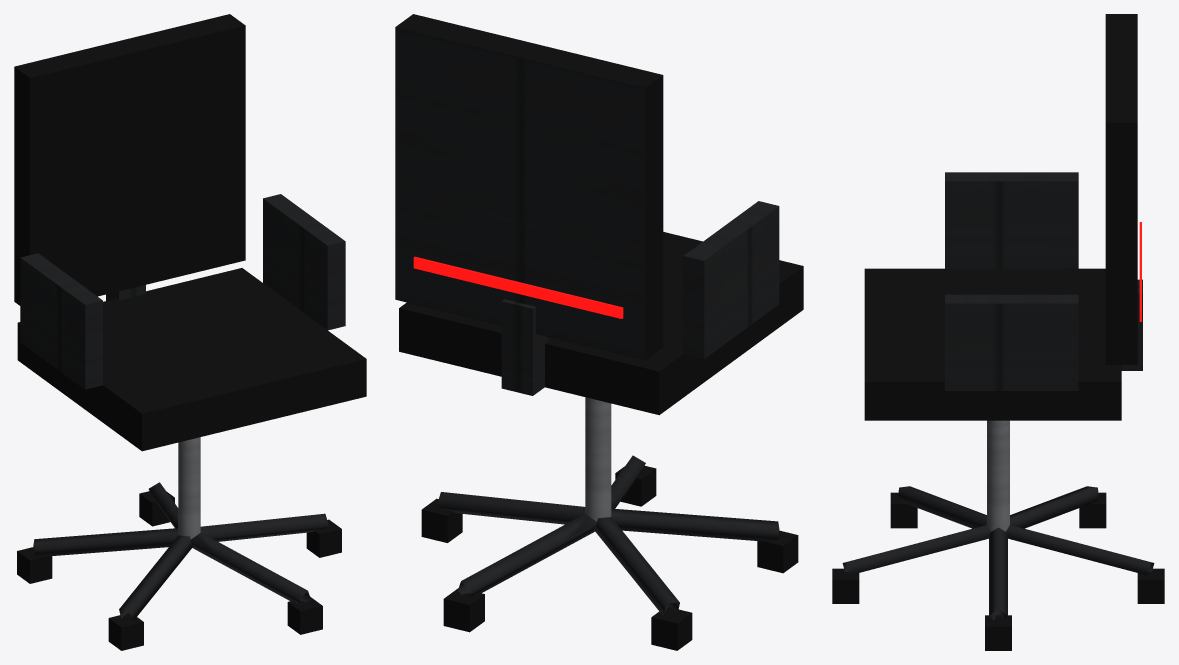
Rendered from SM_LFD_ReceptionChair.fbx.
The picture shows the model from 3 angles, left to right: view 1: azimuth 30°, elevation 25°; view 2: azimuth 150°, elevation 25°; view 3: azimuth 270°, elevation 25°; orthographic projection. The views are drawn at different scales.
Visible parts, largest first — view 1: SM_LFD_ReceptionChair_LOD0; view 2: SM_LFD_ReceptionChair_LOD0; view 3: SM_LFD_ReceptionChair_LOD0.
Part boxes in pixels (box(x1,y1,x2,y2)): SM_LFD_ReceptionChair_LOD0: box(14, 14, 366, 650); SM_LFD_ReceptionChair_LOD0: box(395, 14, 803, 650); SM_LFD_ReceptionChair_LOD0: box(832, 14, 1164, 650).
Size of what is drawn, in the model's own units: 0.615 by 1.05 by 0.6206.
